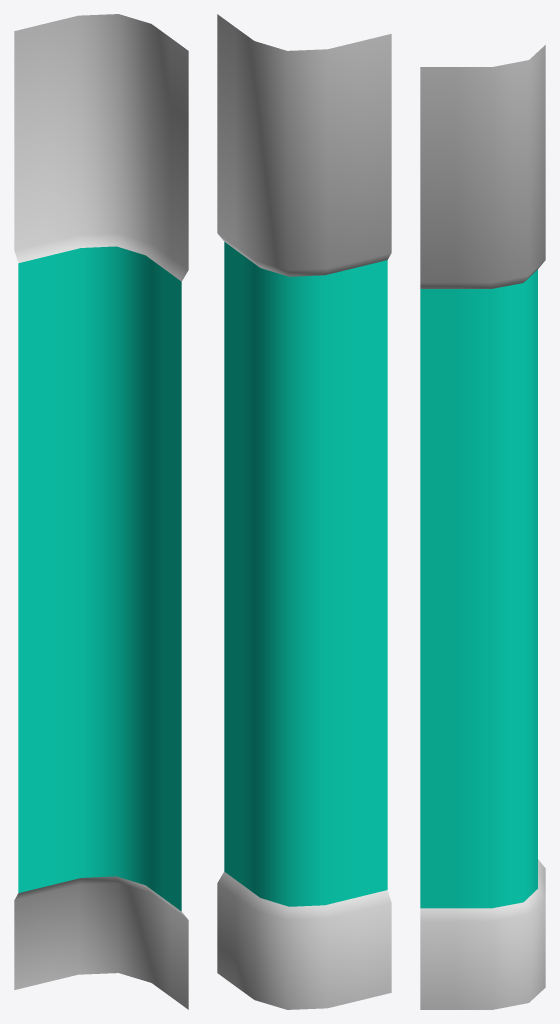
Rendered from CornerLight_Blue.fbx.
The picture shows the model from 3 angles, left to right: view 1: azimuth 30°, elevation 25°; view 2: azimuth 210°, elevation 25°; view 3: azimuth 270°, elevation 25°; orthographic projection.
Parts seen in each view (by area): view 1: CornerLight_Blue; view 2: CornerLight_Blue; view 3: CornerLight_Blue.
Part boxes in pixels (x1,y1,x2,y2): CornerLight_Blue: (14,14,188,1009); CornerLight_Blue: (217,14,391,1009); CornerLight_Blue: (420,45,545,1009).
Bounding box in the file's own units: 0.5788 × 4.8 × 0.5788.
